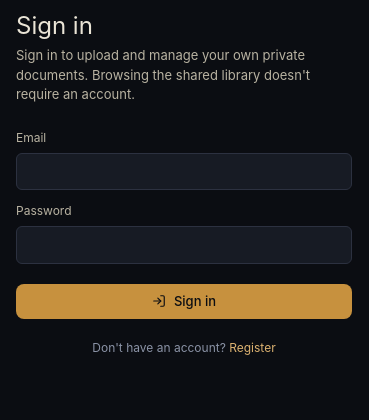
it: LoginPage › shows the backend's error message on failed authentication, and does not redirect
Step 1. Type "alice@example.com" into the field labelled "Email" → (184, 171), box [16,152,352,190]
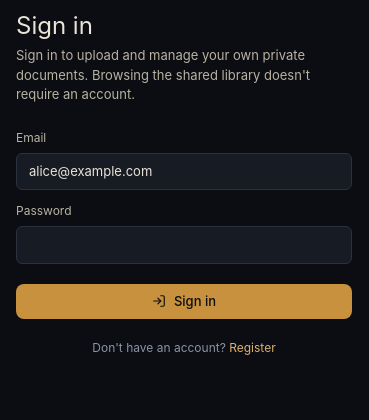
Step 2. Type "wrong-password" into the password field labelled "Password" → (184, 245), box [16,226,352,264]
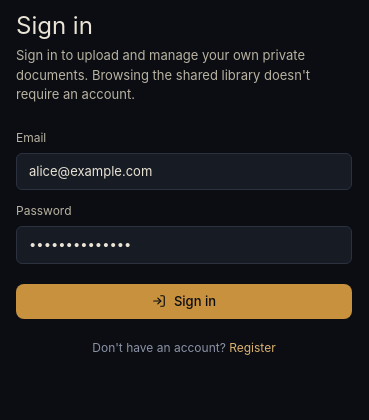
Step 3. Click the button "Sign in" → (184, 301), box [16,284,352,319]
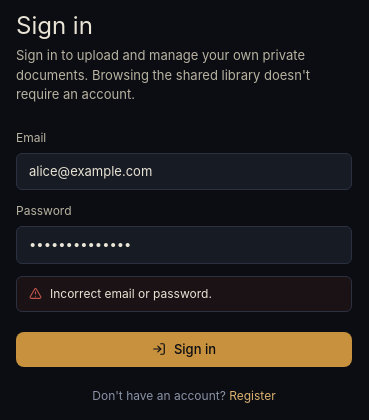
expect the text "Incorrect email or password." is shown: met, box [16,276,352,312]
